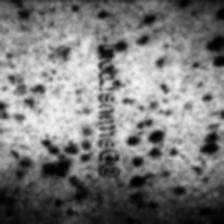Non-Cancerous Skin Condition: (125, 152, 224, 224), (132, 125, 168, 143), (42, 159, 72, 177), (8, 0, 32, 19), (208, 37, 224, 49), (218, 9, 224, 19)
